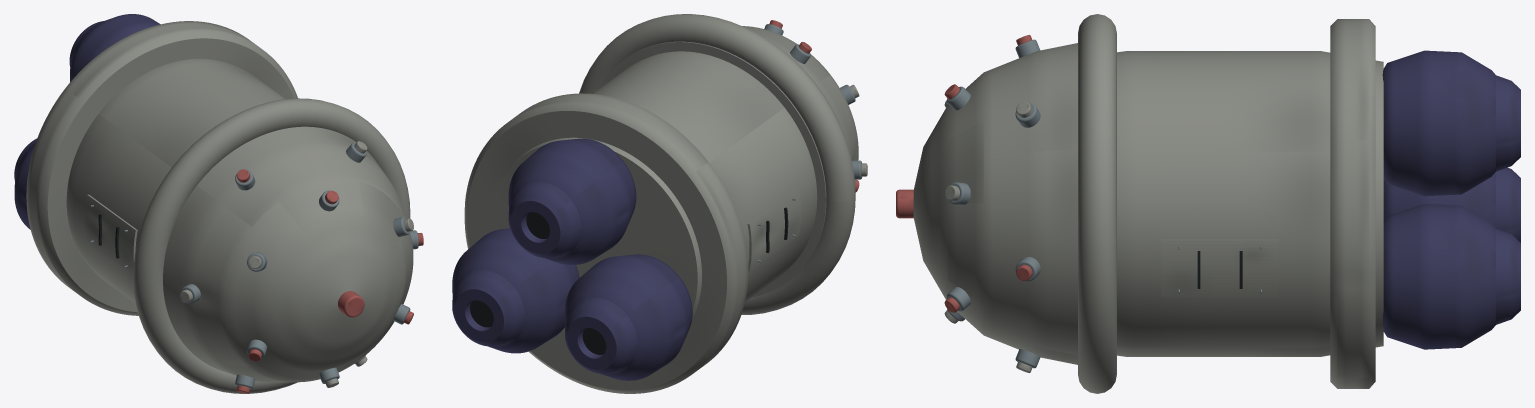
3 renders of one model, left to right at view 1: azimuth 30°, elevation 25°; view 2: azimuth 150°, elevation 25°; view 3: azimuth 270°, elevation 25°, orthographic. The views are drawn at different scales.
Visible parts, largest first — view 1: Static Inducer studded dome, Static Inducer central shell, Static Inducer collar 1, Toroidal interference coil, Static Inducer service cover 0, Static Inducer blue terminal 0, Static Inducer blue terminal 1, Static Inducer axial red terminal; view 2: Static Inducer central shell, Static Inducer collar 1, Toroidal interference coil, Static Inducer blue terminal 0, Static Inducer blue terminal 1, Static Inducer blue terminal 2, Static Inducer studded dome, Static Inducer recessed rim 2, Static Inducer recessed rim 1, Static Inducer recessed rim 0, Static Inducer service cover 0, Static Inducer recess floor 2 (+2 smaller); view 3: Static Inducer central shell, Static Inducer studded dome, Static Inducer collar 1, Static Inducer blue terminal 2, Static Inducer blue terminal 0, Toroidal interference coil, Static Inducer service cover 1, Static Inducer blue terminal 1, Static Inducer recessed rim 0, Static Inducer recessed rim 2, Static Inducer recessed rim 1.
Part boxes in pixels (<box>): Static Inducer studded dome: <box>163,126,413,382</box>; Static Inducer central shell: <box>66,58,285,303</box>; Static Inducer collar 1: <box>26,21,297,315</box>; Toroidal interference coil: <box>133,98,410,393</box>; Static Inducer service cover 0: <box>85,194,137,274</box>; Static Inducer blue terminal 0: <box>70,14,160,81</box>; Static Inducer blue terminal 1: <box>14,142,35,229</box>; Static Inducer axial red terminal: <box>338,291,364,317</box>; Static Inducer central shell: <box>489,51,817,353</box>; Static Inducer collar 1: <box>464,93,748,393</box>; Toroidal interference coil: <box>579,14,855,314</box>; Static Inducer blue terminal 0: <box>508,138,636,264</box>; Static Inducer blue terminal 1: <box>565,254,692,380</box>; Static Inducer blue terminal 2: <box>452,228,579,353</box>; Static Inducer studded dome: <box>599,26,858,297</box>; Static Inducer recessed rim 2: <box>452,270,524,346</box>; Static Inducer recessed rim 1: <box>565,297,637,373</box>; Static Inducer recessed rim 0: <box>508,182,581,257</box>; Static Inducer service cover 0: <box>747,188,801,271</box>; Static Inducer recess floor 2: <box>470,300,493,327</box>; Static Inducer central shell: <box>1117,51,1383,356</box>; Static Inducer studded dome: <box>913,43,1077,364</box>; Static Inducer collar 1: <box>1330,19,1375,388</box>; Static Inducer blue terminal 2: <box>1382,204,1496,349</box>; Static Inducer blue terminal 0: <box>1382,50,1496,196</box>; Toroidal interference coil: <box>1078,14,1116,393</box>; Static Inducer service cover 1: <box>1161,239,1278,296</box>; Static Inducer blue terminal 1: <box>1383,172,1495,227</box>; Static Inducer recessed rim 0: <box>1496,75,1520,171</box>; Static Inducer recessed rim 2: <box>1496,228,1520,324</box>; Static Inducer recessed rim 1: <box>1496,167,1520,242</box>.
Size of the model in its own units: 1.07 by 1.07 by 1.76.
5 materials, 3 textured.
